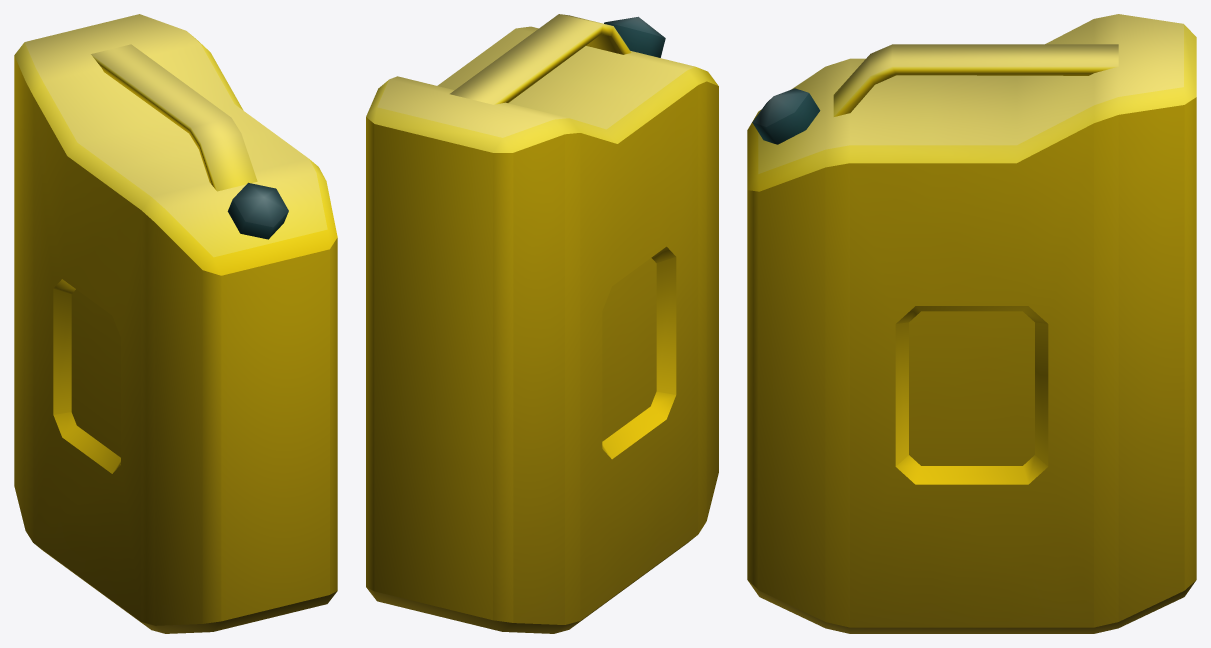
Rendered from Gas_Cannister_1B.fbx.
The picture shows the model from 3 angles, left to right: view 1: azimuth 30°, elevation 25°; view 2: azimuth 150°, elevation 25°; view 3: azimuth 270°, elevation 25°; orthographic projection. The views are drawn at different scales.
Parts seen in each view (by area): view 1: Gas_Cannister_1B; view 2: Gas_Cannister_1B; view 3: Gas_Cannister_1B.
Boxes of the visible parts, x1=… form: Gas_Cannister_1B: x1=14, y1=14, x2=337, y2=633; Gas_Cannister_1B: x1=366, y1=14, x2=718, y2=633; Gas_Cannister_1B: x1=747, y1=14, x2=1196, y2=633.
Size of the model in its own units: 18 by 46 by 35.
